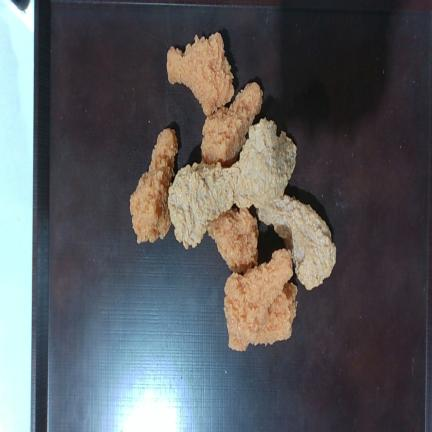chicken: (258, 196, 336, 290), (224, 248, 293, 348), (168, 163, 239, 248), (167, 32, 234, 116), (234, 118, 296, 208), (130, 128, 178, 242), (201, 82, 263, 166), (208, 208, 257, 272)
